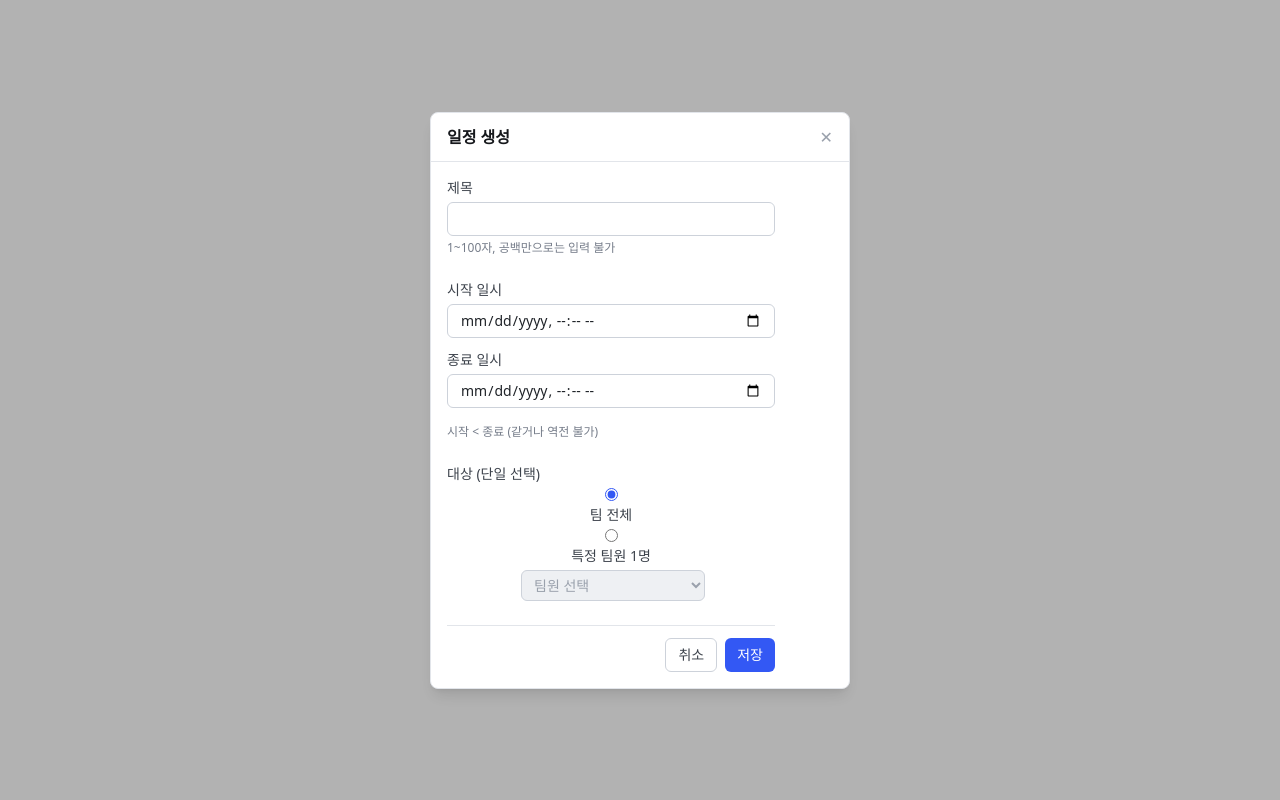
it: ScheduleForm › 대상을 '특정 팀원'으로 선택했는데 팀원을 고르지 않으면 저장을 차단함(§8 대상 단일 선택)
Type "팀 회의" into the field labelled "제목" at (611, 218), box [447,202,775,236]
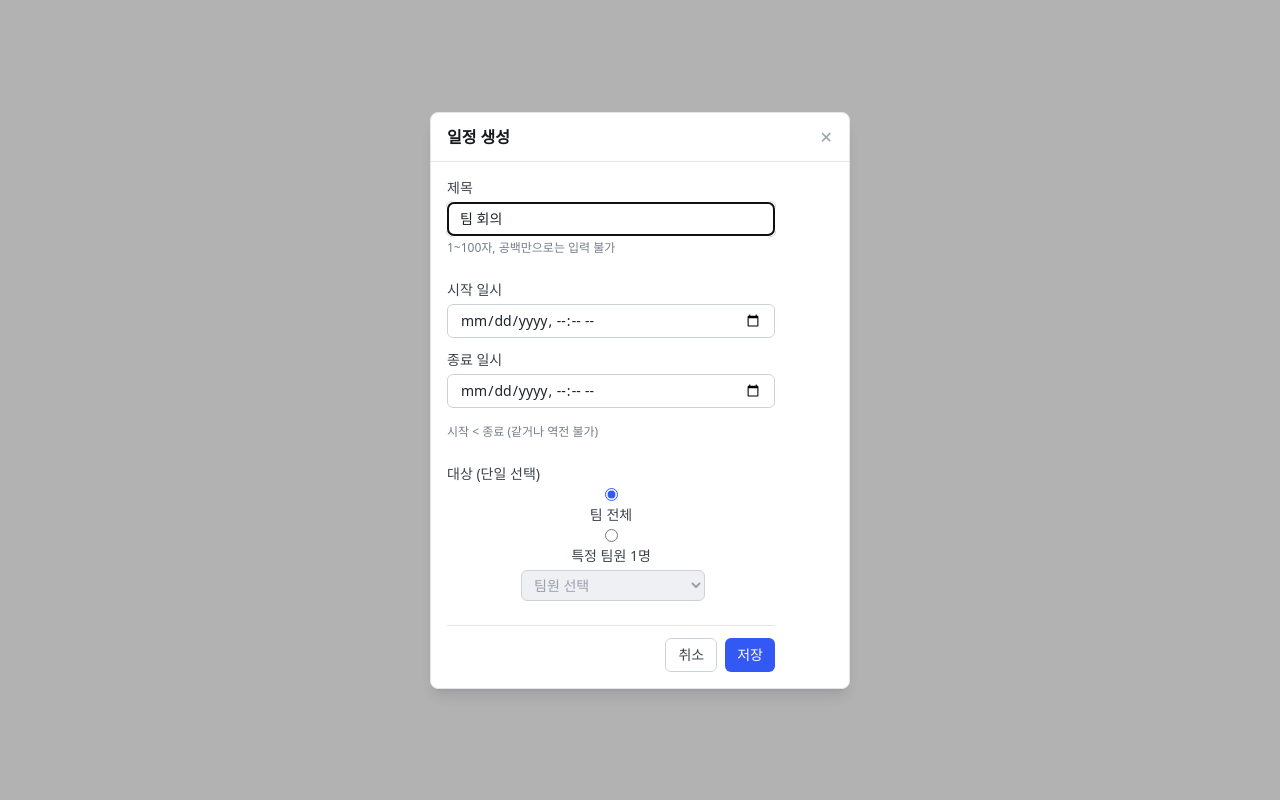
Type "2026-08-01T14:00" into the field labelled "시작 일시" at (611, 320), box [447,304,775,338]
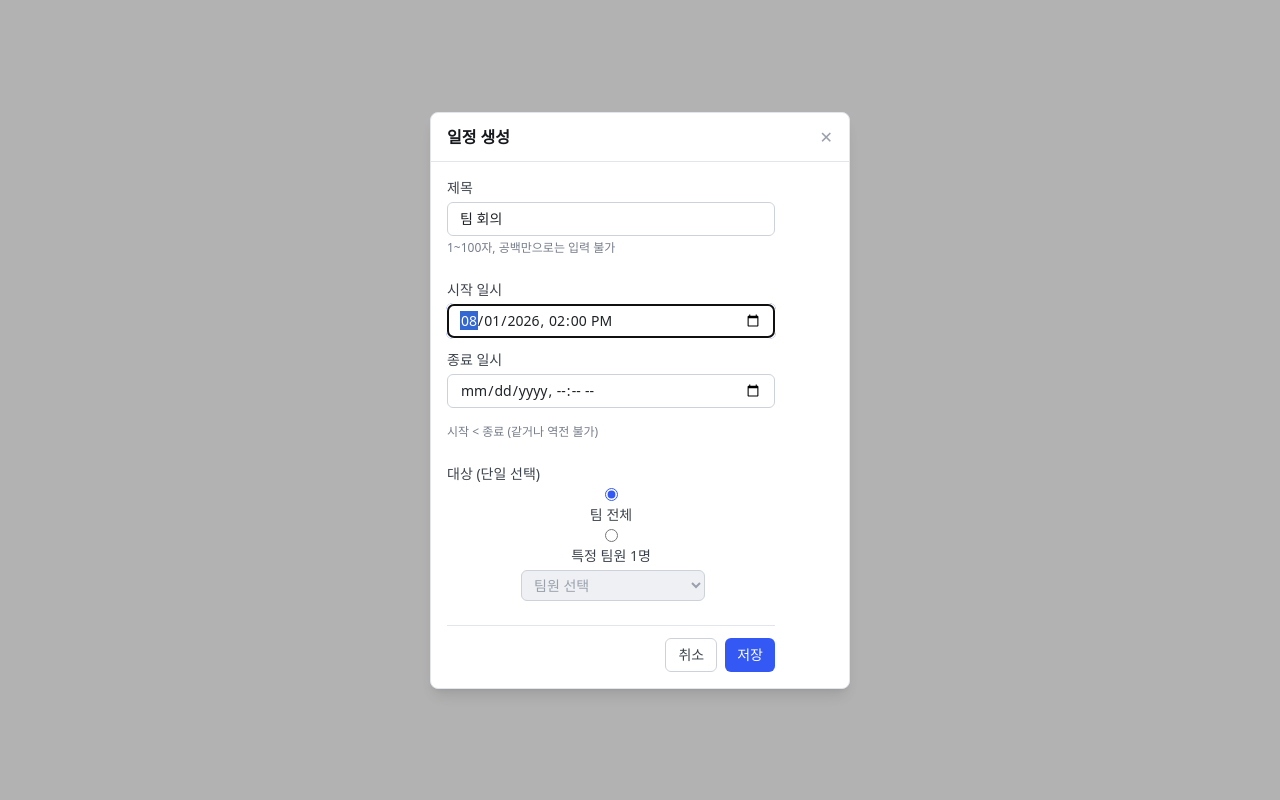
Type "2026-08-01T15:00" into the field labelled "종료 일시" at (611, 390), box [447,374,775,408]
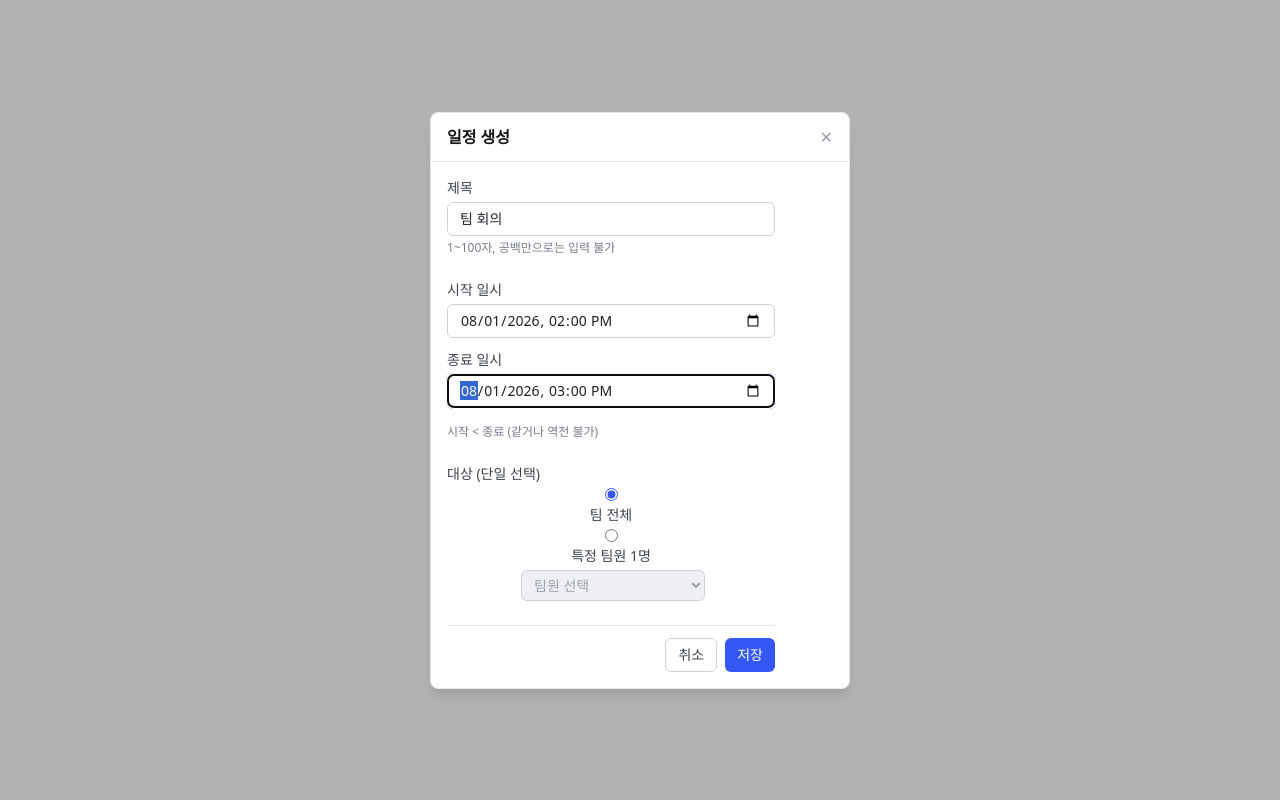
Click the radio button labelled "특정 팀원 1명" at (611, 535), box [604,528,618,542]
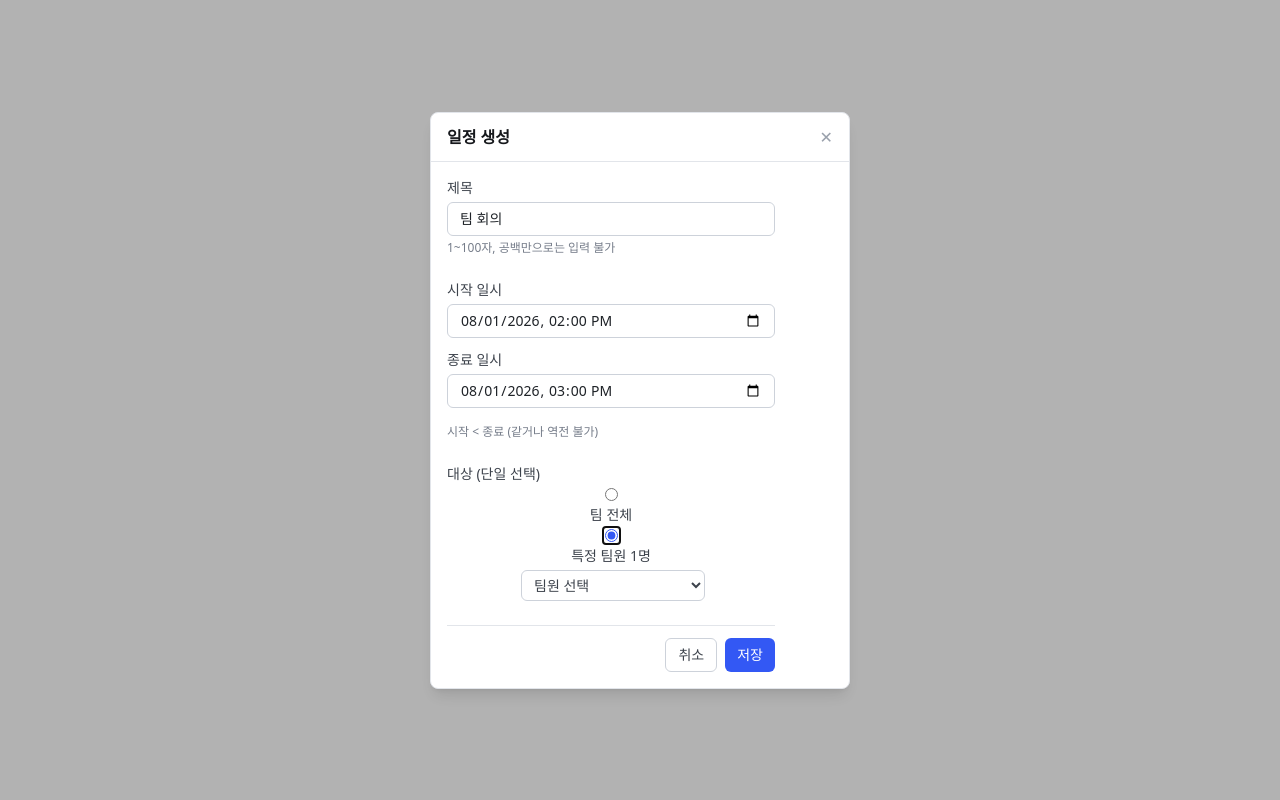
Click the button "저장" at (750, 654), box [725,638,775,672]
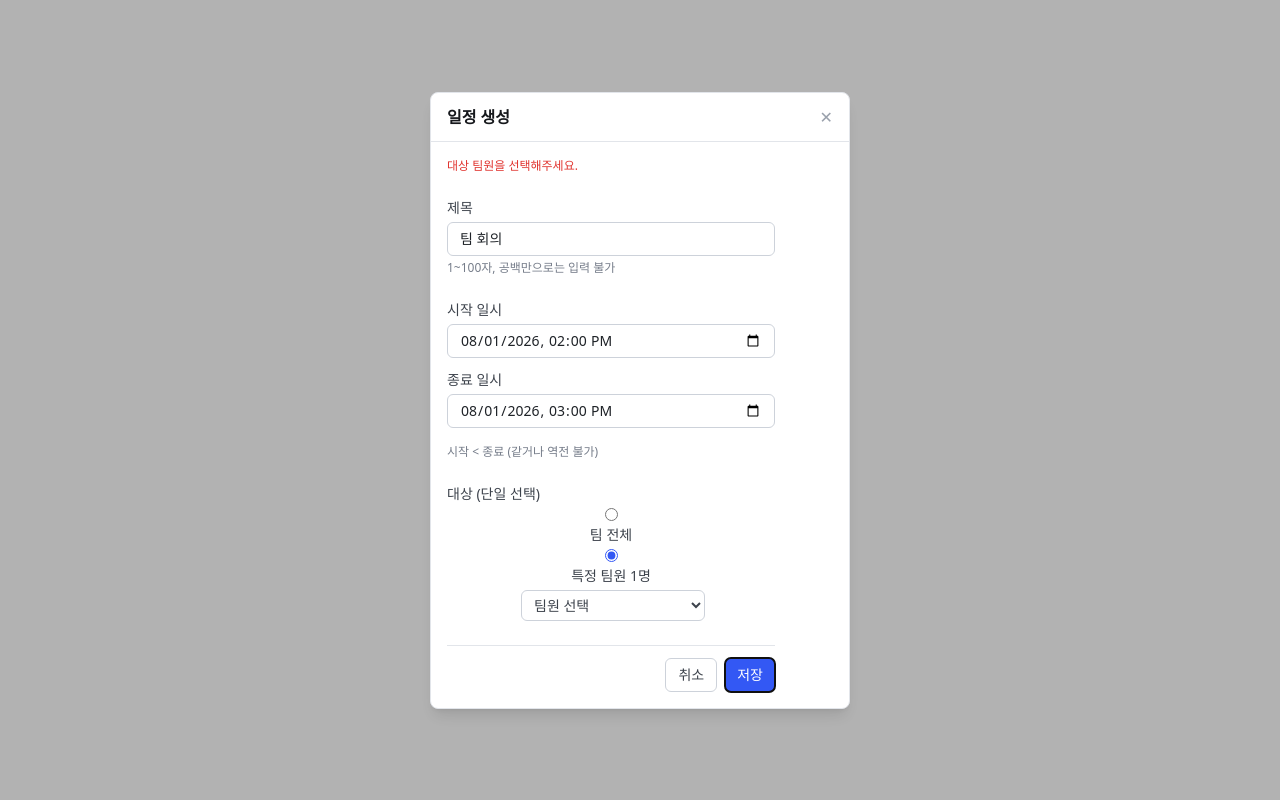
Expected: the text "대상 팀원을 선택해주세요." is shown, [447,156,578,174]
